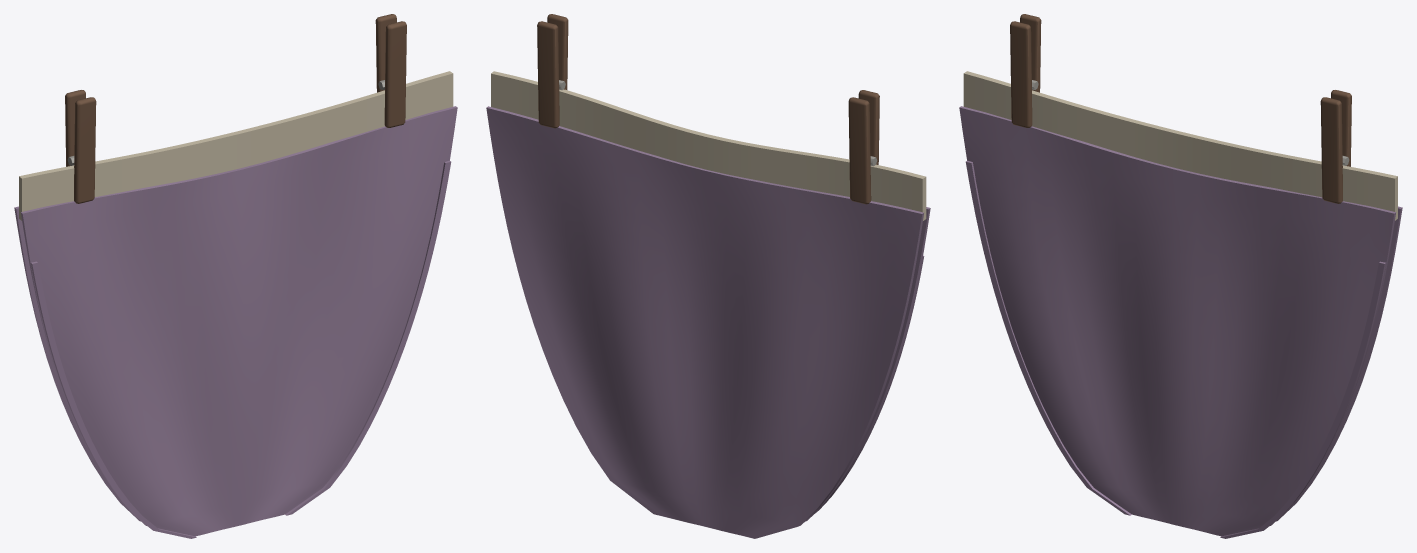
The model's file is knickers-line-mint-71d06c1f1043.glb.
3 renders of one model, left to right at view 1: azimuth 30°, elevation 25°; view 2: azimuth 150°, elevation 25°; view 3: azimuth 330°, elevation 25°, orthographic.
Parts seen in each view (by area): view 1: cloth-lilac, cloth-cream, wood; view 2: cloth-lilac, cloth-cream, wood; view 3: cloth-lilac, cloth-cream, wood.
Part boxes in pixels (bbox=[...]): cloth-lilac: bbox=[14, 106, 457, 538]; cloth-cream: bbox=[19, 71, 453, 220]; wood: bbox=[65, 14, 406, 203]; cloth-lilac: bbox=[486, 106, 930, 538]; cloth-cream: bbox=[491, 71, 926, 220]; wood: bbox=[537, 14, 879, 204]; cloth-lilac: bbox=[959, 106, 1402, 538]; cloth-cream: bbox=[963, 71, 1397, 220]; wood: bbox=[1010, 14, 1351, 203].
Bounding box in the file's own units: 0.237 × 0.242 × 0.014.
